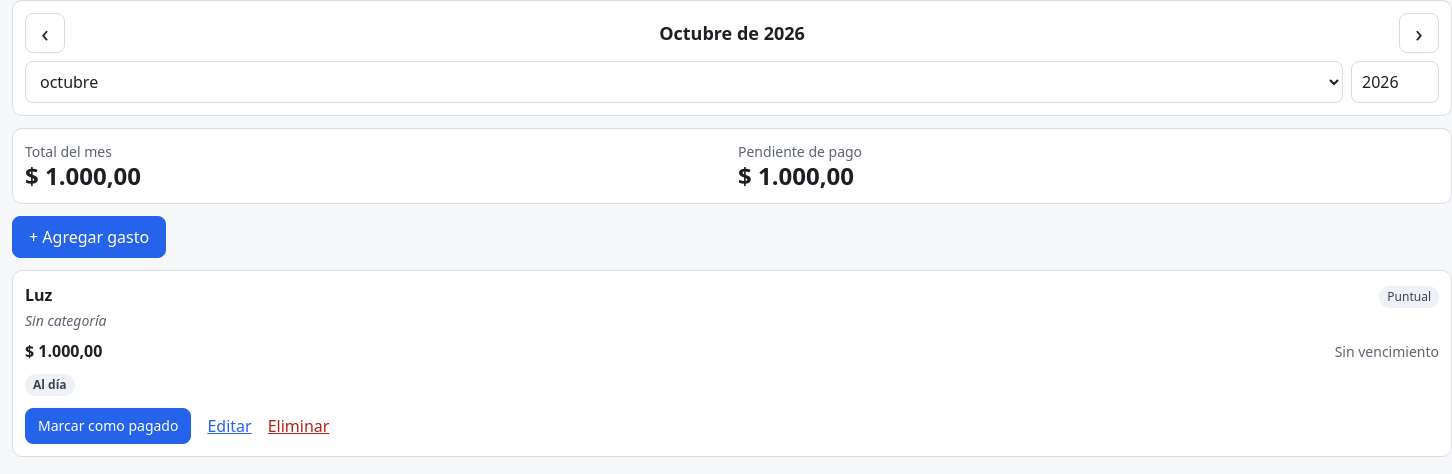
it: ExpensesPage › marca un gasto como pagado sin volver a pedir la lista
Click the button with aria-label "Marcar Luz como pagado": (108, 426) [25,408,192,444]
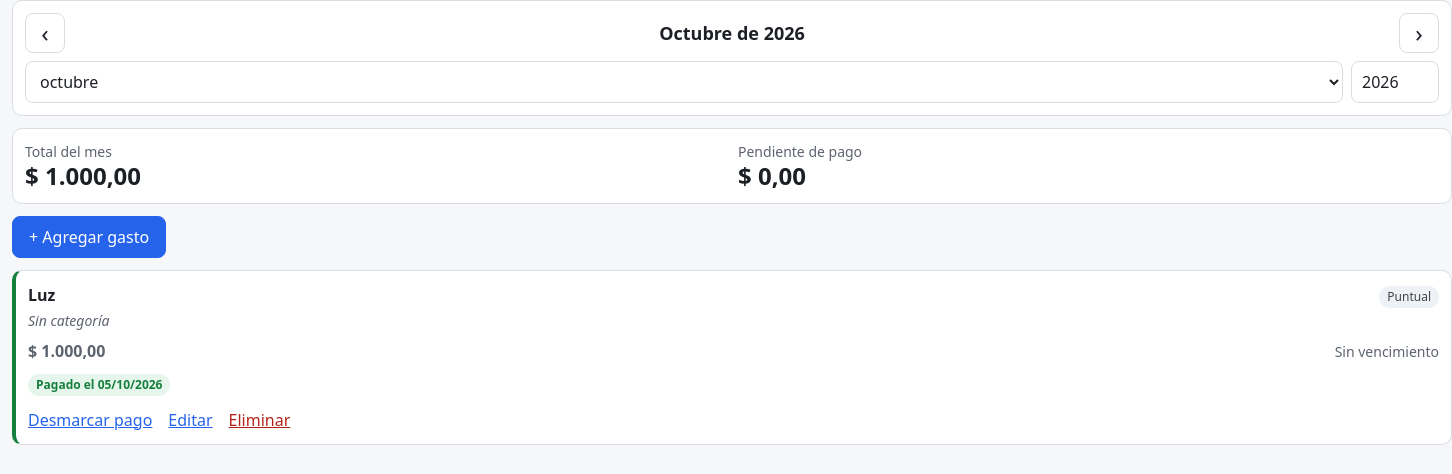
Now the text "Pagado el 05/10/2026" is shown, box [28,374,170,396]
